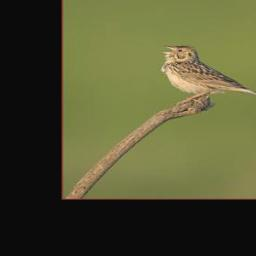Sparrow: (161, 44, 256, 106)
